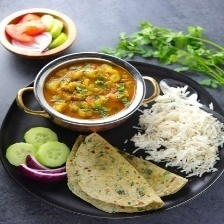rice: (129, 84, 224, 179)
